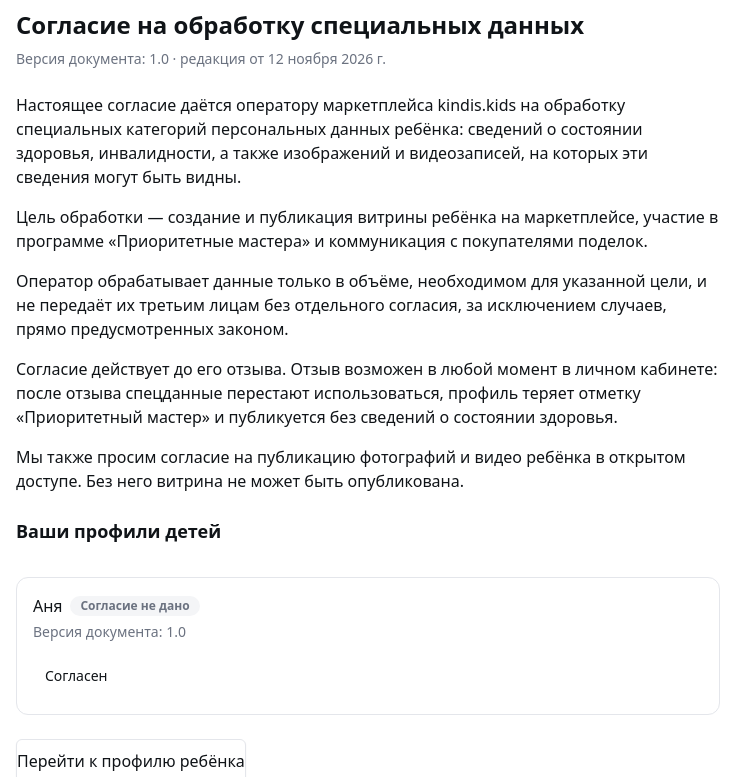
Scenario: ConsentPage › сообщение об успехе приходит только после ответа сервера
Click the button "Согласен" at (76, 676), box [33,654,120,698]
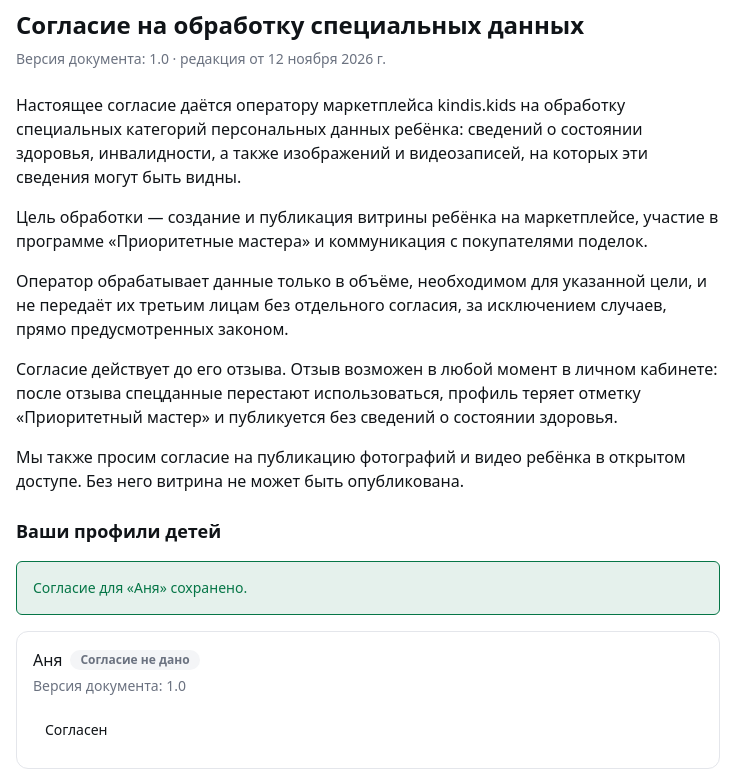
Now the text "Согласие для «Аня» сохранено." is shown, box [16,561,720,615]
